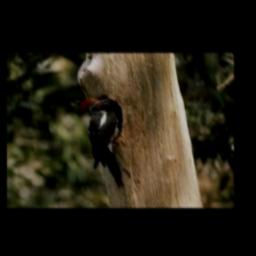Woodpecker: (81, 98, 124, 188)
